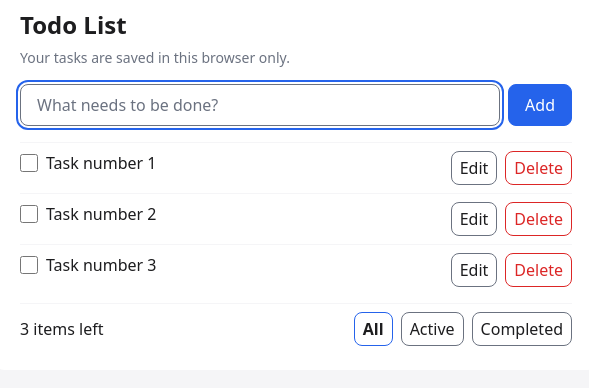
Test: App: edit a task › drops the first edit when Edit is pressed on a second row, and starts fresh on return (Q3, BR4.1)
Click the button with test id "edit-button" in the row of "Task number 1" at (474, 168), box x1=451 y1=151 x2=497 y2=185
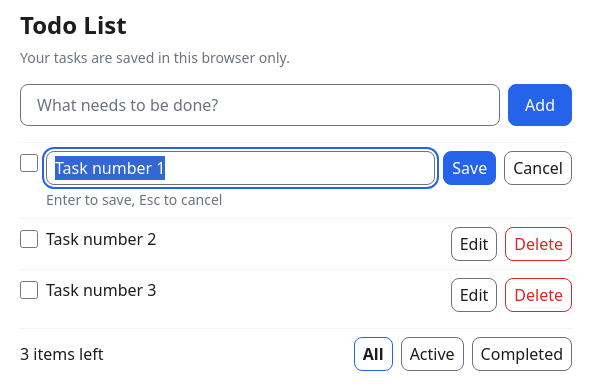
Type keys "lost words"
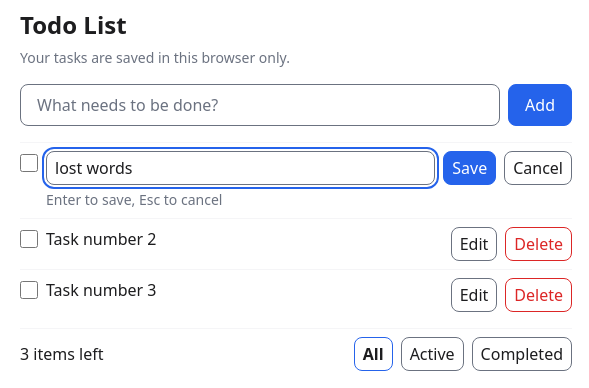
Click the button with test id "edit-button" in the row of "Task number 2" at (474, 244), box x1=451 y1=227 x2=497 y2=261
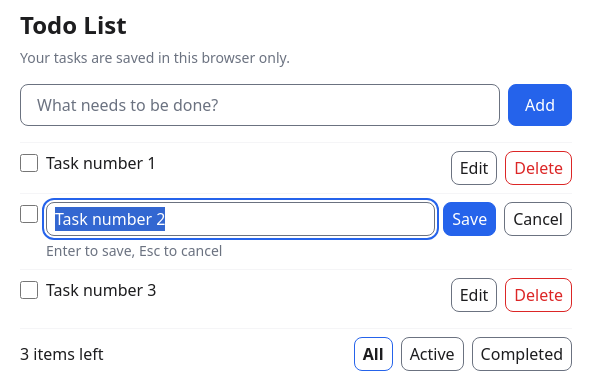
Expected: the number of forms with test id "task-edit-form" is 1, x1=46 y1=202 x2=572 y2=261
Expected: the field with test id "task-edit-input" holds "Task number 2", x1=46 y1=202 x2=435 y2=236
Click the button with test id "edit-button" in the row of "Task number 1" at (474, 168), box x1=451 y1=151 x2=497 y2=185
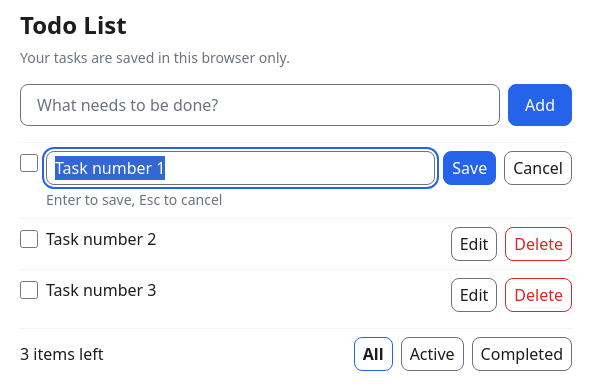
Expected: the field with test id "task-edit-input" holds "Task number 1", x1=46 y1=151 x2=435 y2=185
